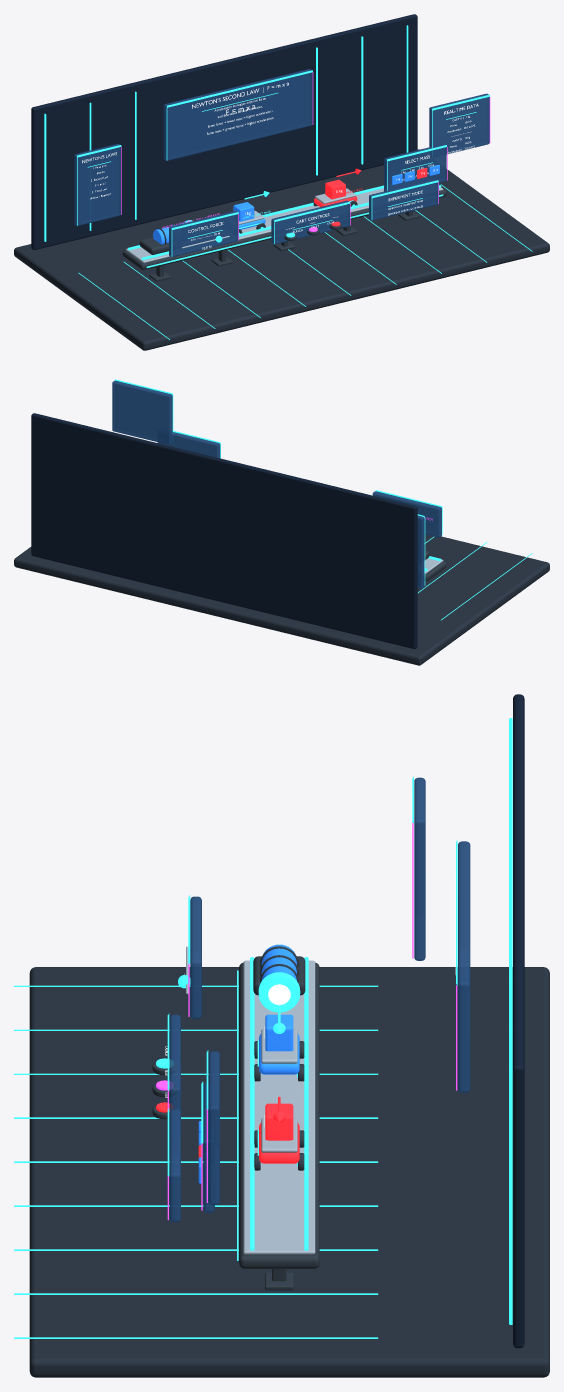
Rendered from NewtonsSecondLawExp.fbx.
3 views of the same model, one above another, from view 1: azimuth 30°, elevation 25°; view 2: azimuth 150°, elevation 25°; view 3: azimuth 270°, elevation 25° (orthographic). The views are drawn at different scales.
Parts seen in each view (by area): view 1: Back Wall, Lab Floor, Second Law Board, Navigation Panel, Live Data Panel, Force Slider Panel, Cart Control Panel, Mode Panel, Mass Selection Panel, Track Base, Track Surface; view 2: Back Wall, Lab Floor, Live Data Panel, Mass Selection Panel, Force Slider Panel, Navigation Panel; view 3: Lab Floor, Track Surface, Back Wall, Track Base, Second Law Board, Navigation Panel, Live Data Panel, Force Slider Panel, Track Rail.001, Track Rail, Mode Panel, Cart Control Panel (+5 smaller).
Part boxes in pixels (left/top/right/bottom): Back Wall: left=31, top=14, right=417, bottom=250; Lab Floor: left=14, top=149, right=549, bottom=350; Second Law Board: left=163, top=69, right=312, bottom=160; Navigation Panel: left=74, top=144, right=120, bottom=226; Live Data Panel: left=429, top=93, right=489, bottom=156; Force Slider Panel: left=169, top=211, right=238, bottom=257; Cart Control Panel: left=271, top=200, right=349, bottom=244; Mode Panel: left=369, top=179, right=438, bottom=220; Mass Selection Panel: left=384, top=144, right=446, bottom=191; Track Base: left=122, top=187, right=446, bottom=270; Track Surface: left=126, top=187, right=443, bottom=262; Back Wall: left=31, top=413, right=417, bottom=649; Lab Floor: left=14, top=534, right=549, bottom=665; Live Data Panel: left=112, top=380, right=172, bottom=444; Mass Selection Panel: left=157, top=430, right=220, bottom=458; Force Slider Panel: left=372, top=491, right=441, bottom=537; Navigation Panel: left=417, top=515, right=424, bottom=588; Lab Floor: left=29, top=967, right=549, bottom=1377; Track Surface: left=243, top=960, right=315, bottom=1254; Back Wall: left=513, top=694, right=524, bottom=1348; Track Base: left=239, top=962, right=319, bottom=1268; Second Law Board: left=458, top=841, right=470, bottom=1092; Navigation Panel: left=414, top=777, right=425, bottom=960; Live Data Panel: left=208, top=1051, right=219, bottom=1204; Force Slider Panel: left=190, top=896, right=201, bottom=1018; Track Rail.001: left=304, top=957, right=308, bottom=1250; Track Rail: left=250, top=957, right=254, bottom=1250; Mode Panel: left=169, top=1109, right=180, bottom=1222; Cart Control Panel: left=169, top=1014, right=180, bottom=1111.
Size of the model in its own units: 1800 by 640 by 1030.
